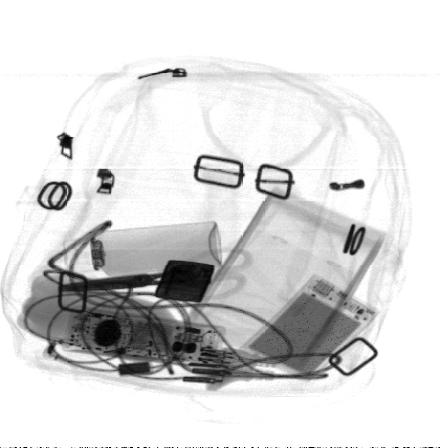Lighter: (154, 261, 215, 303)
Powerbank: (235, 271, 381, 383)
Scissors: (55, 247, 254, 303)
Sprayer: (62, 220, 225, 279)
